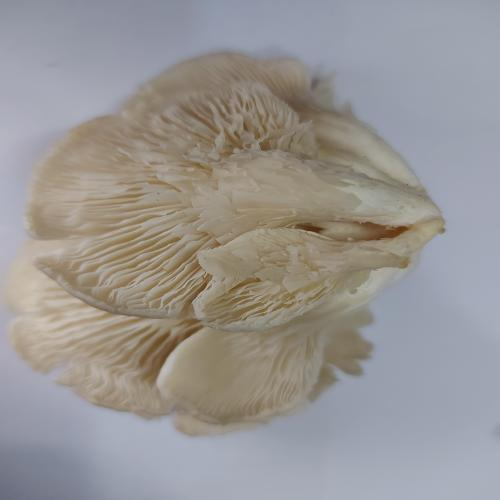Oyster Mushroom: (5, 50, 446, 436)
